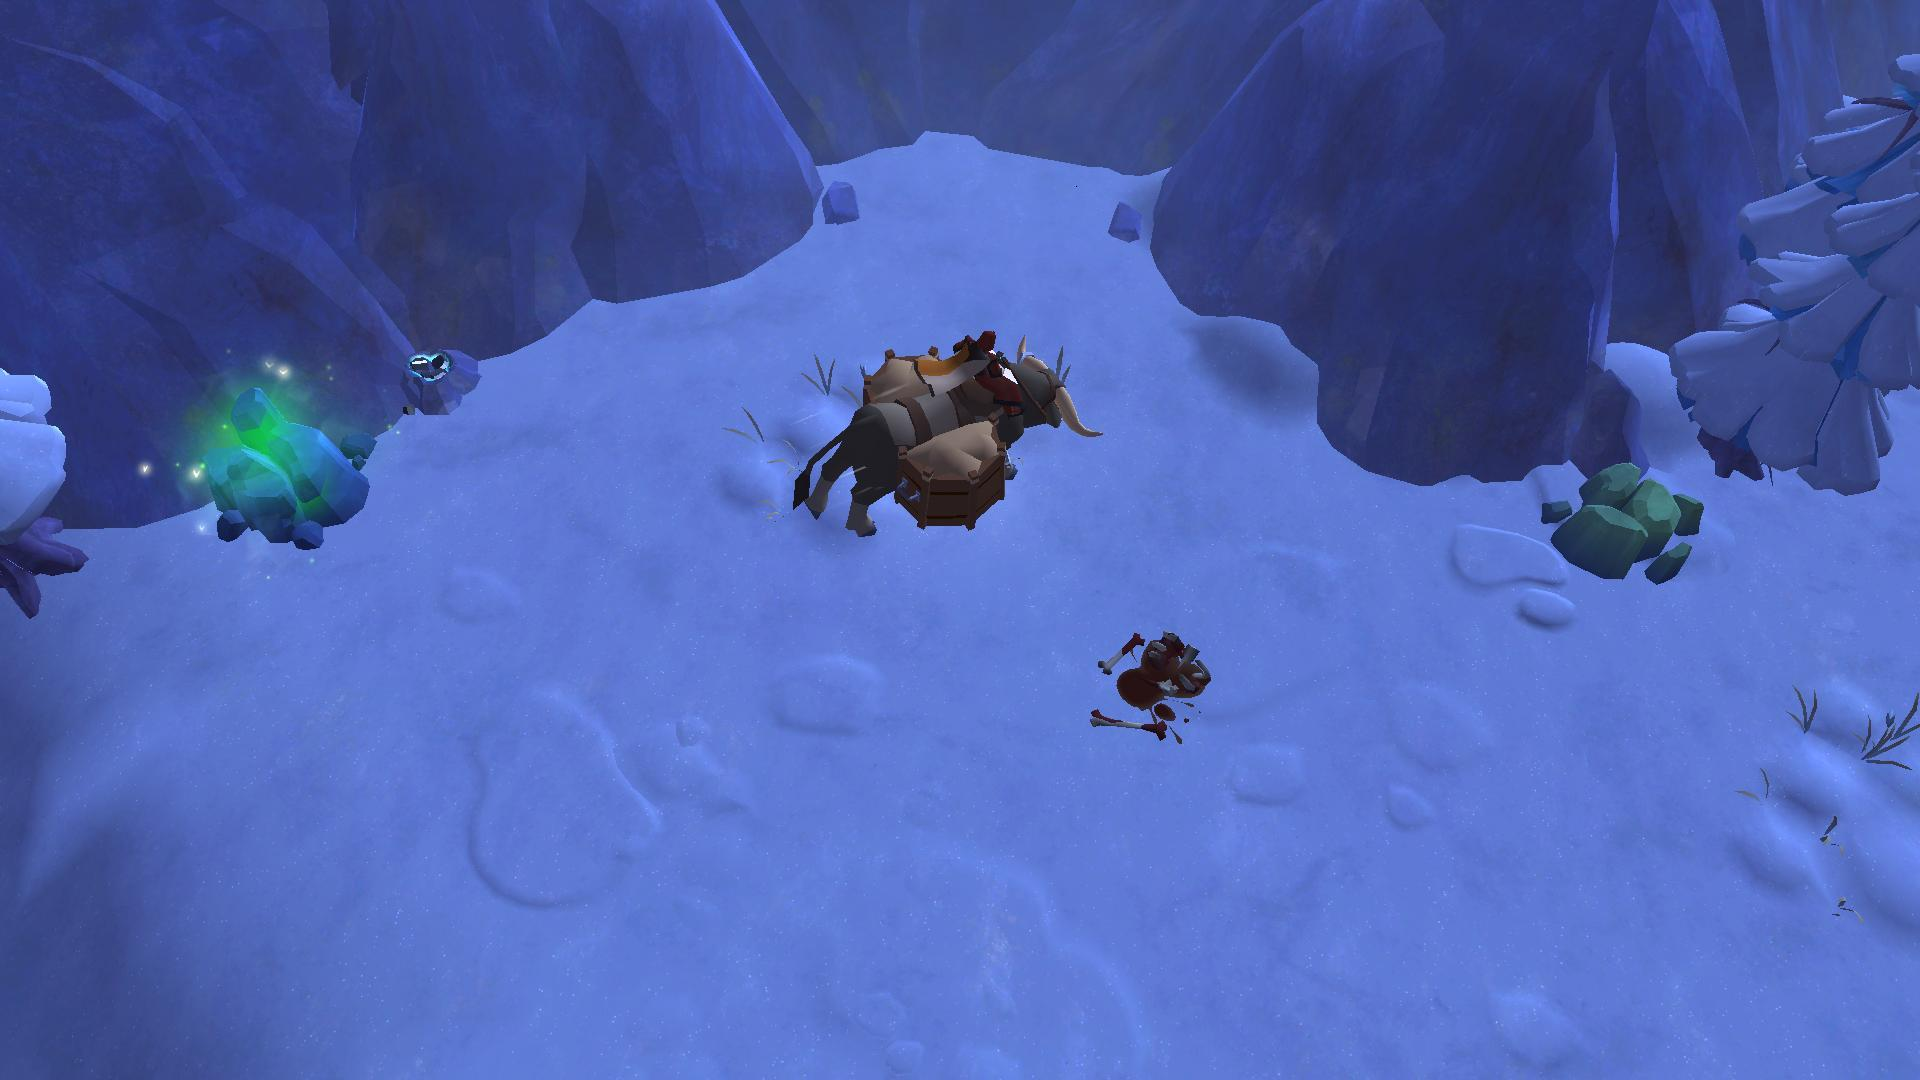rock_t3: (1543, 448, 1710, 599)
